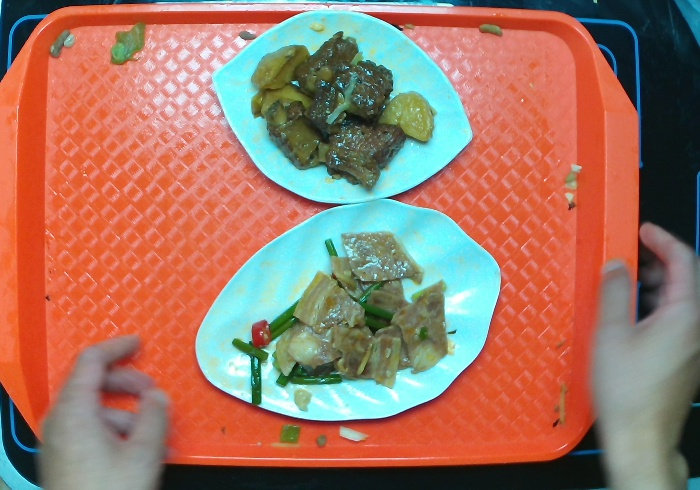RJxy-Bai_Ye_Pan: (192, 193, 502, 426)
RJxy-Da_Du_Pan: (207, 7, 480, 205)
